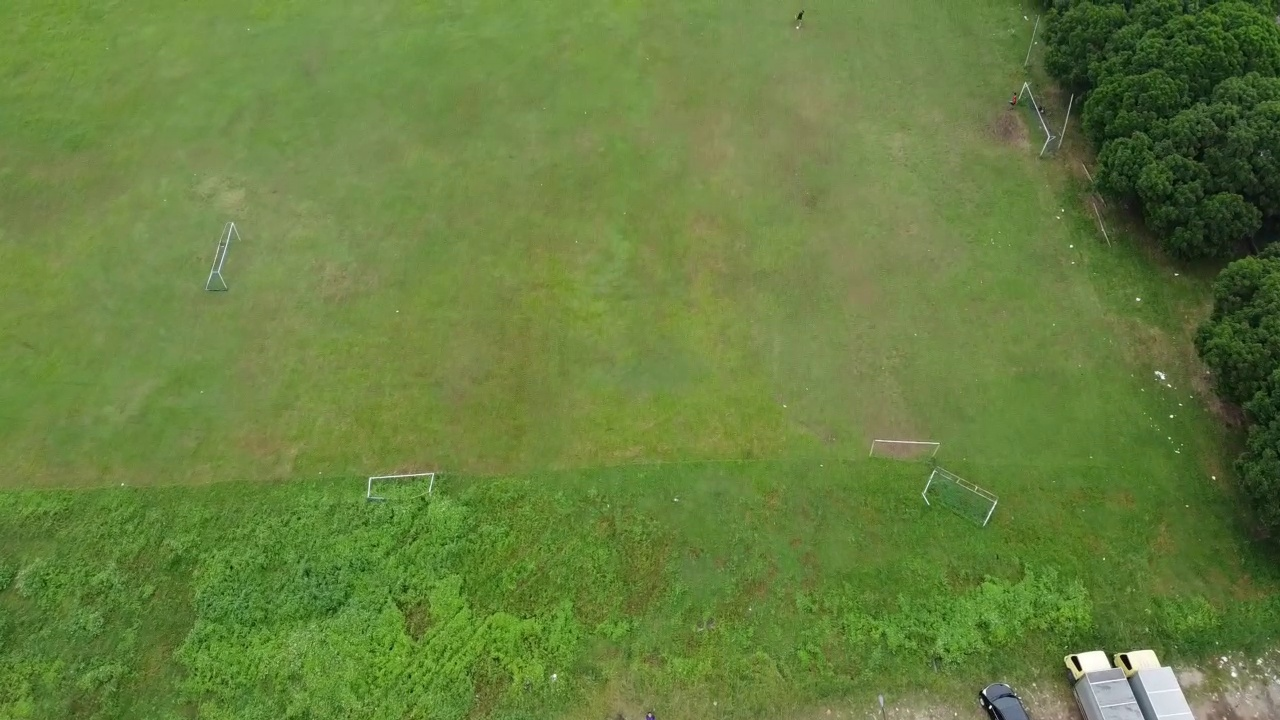mobil: (973, 676, 1027, 720)
